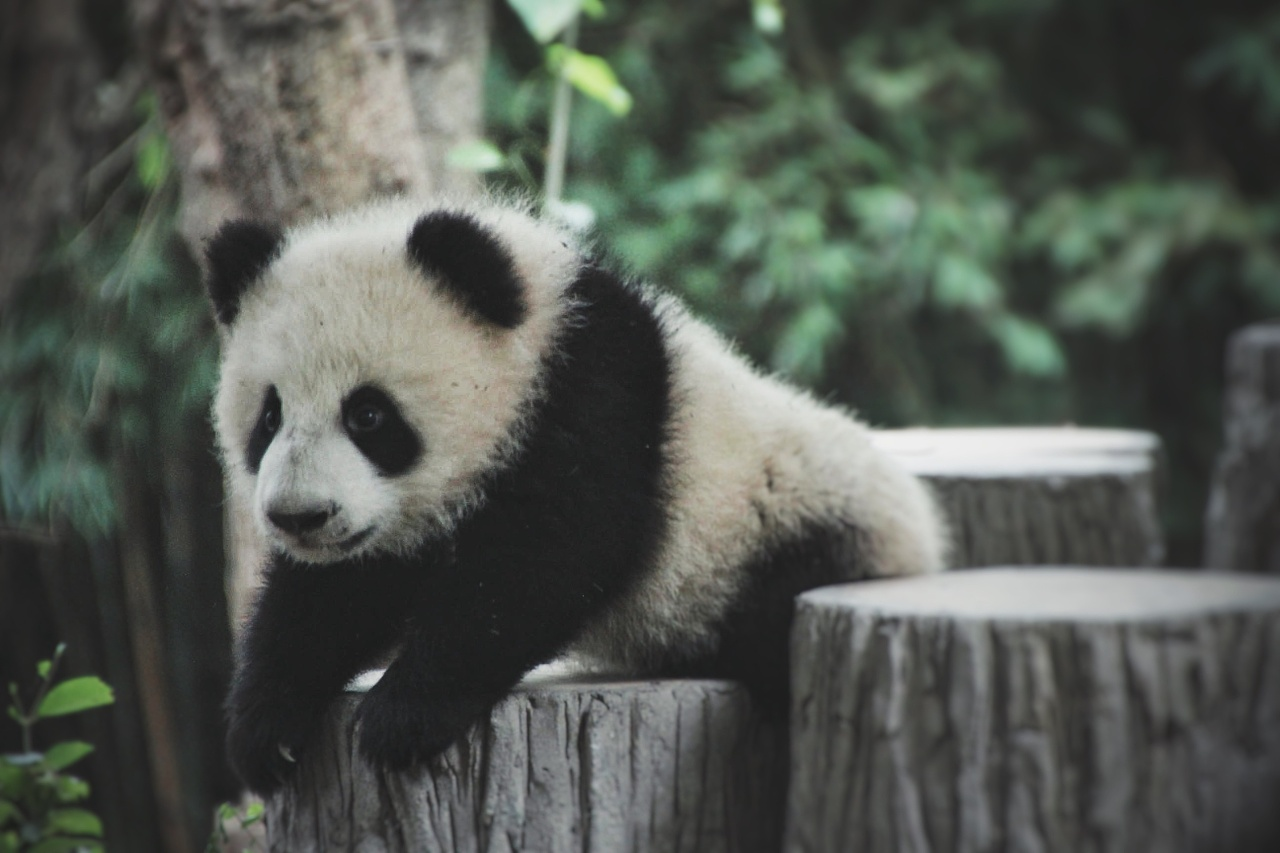panda: (152, 186, 1023, 761)
